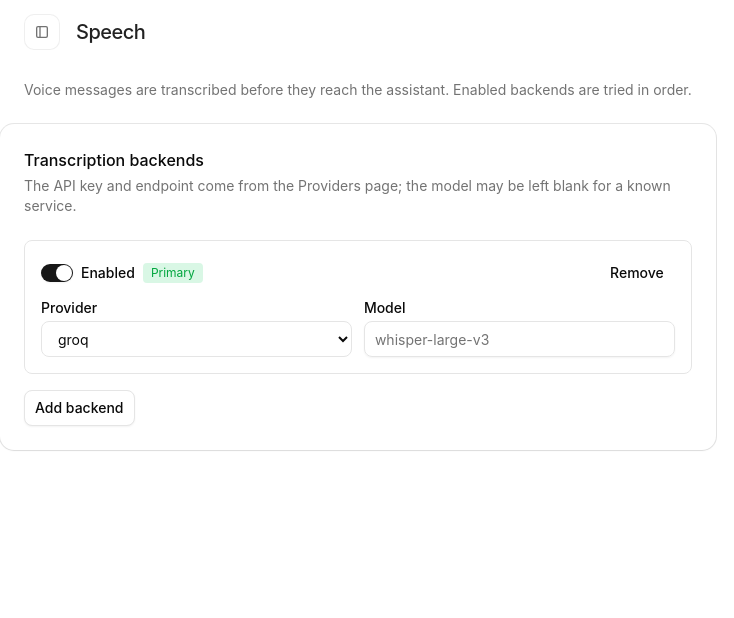
Test: VoicePage › saves only provider, enabled and model for each backend
Expected: the dropdown labelled "Provider" is shown, [41,321,352,357]
Click the button "Add backend" at [79, 408], box [24,390,134,426]
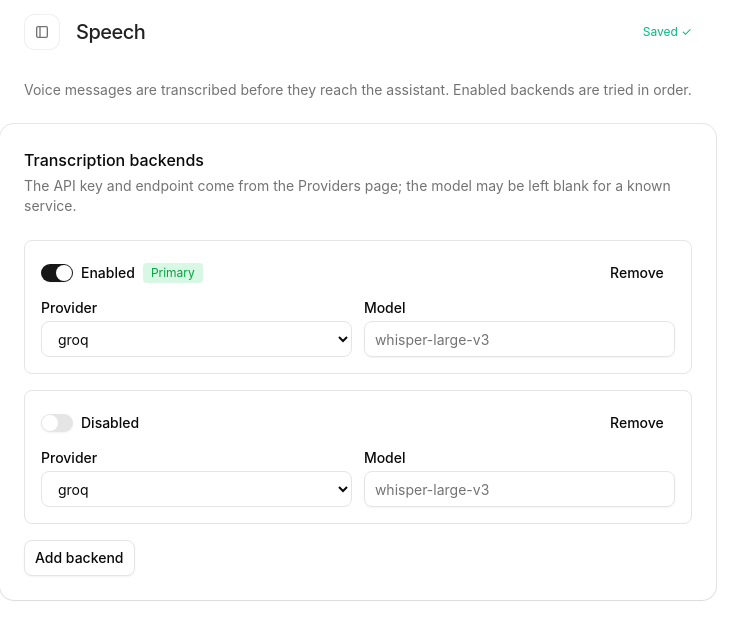
Expected: the text "Saved ✓" is shown, [643,24,692,40]
